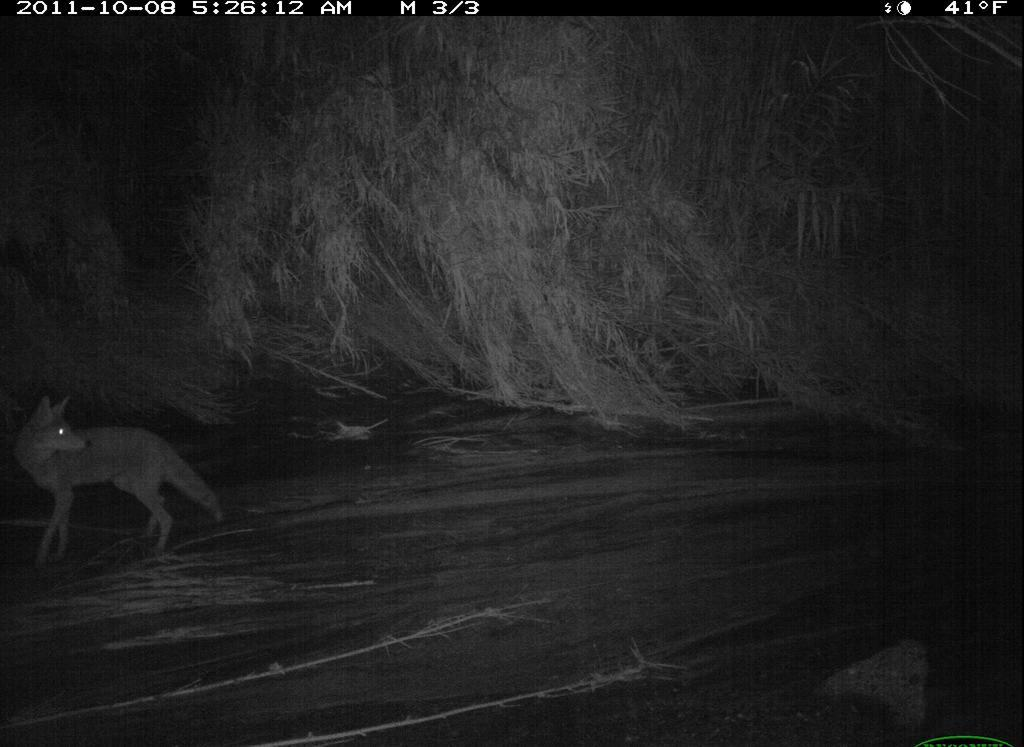coyote: (4, 383, 237, 585)
